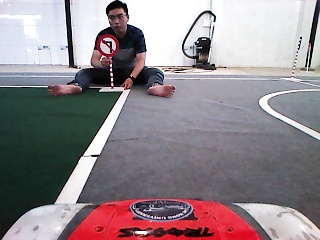ban_left: (96, 34, 119, 57)
